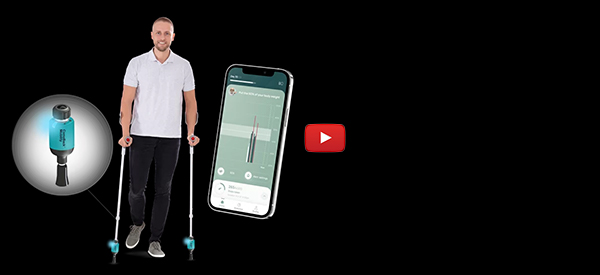crutches: (109, 17, 202, 266)
